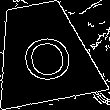O_N: (14, 23, 73, 82)
